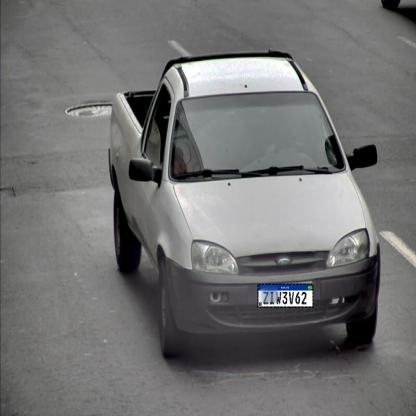PlacaM: (258, 283, 314, 308)
